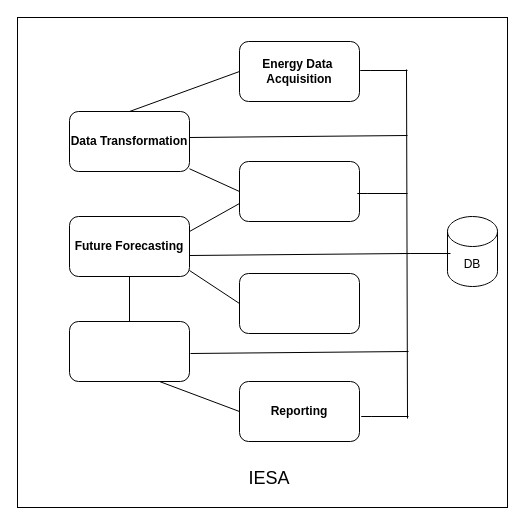
The diagram is 525 pixels wide and 525 high, and some of its shapes have lost their labels. The shapes that lost their labels are listed below. From the top down, each one's centre as x and y in pixels, then its label:
At pixel 299 191: "Scenerio Analysis".
At pixel 299 303: "Personalized Recommendations".
At pixel 129 351: "Visualization".
